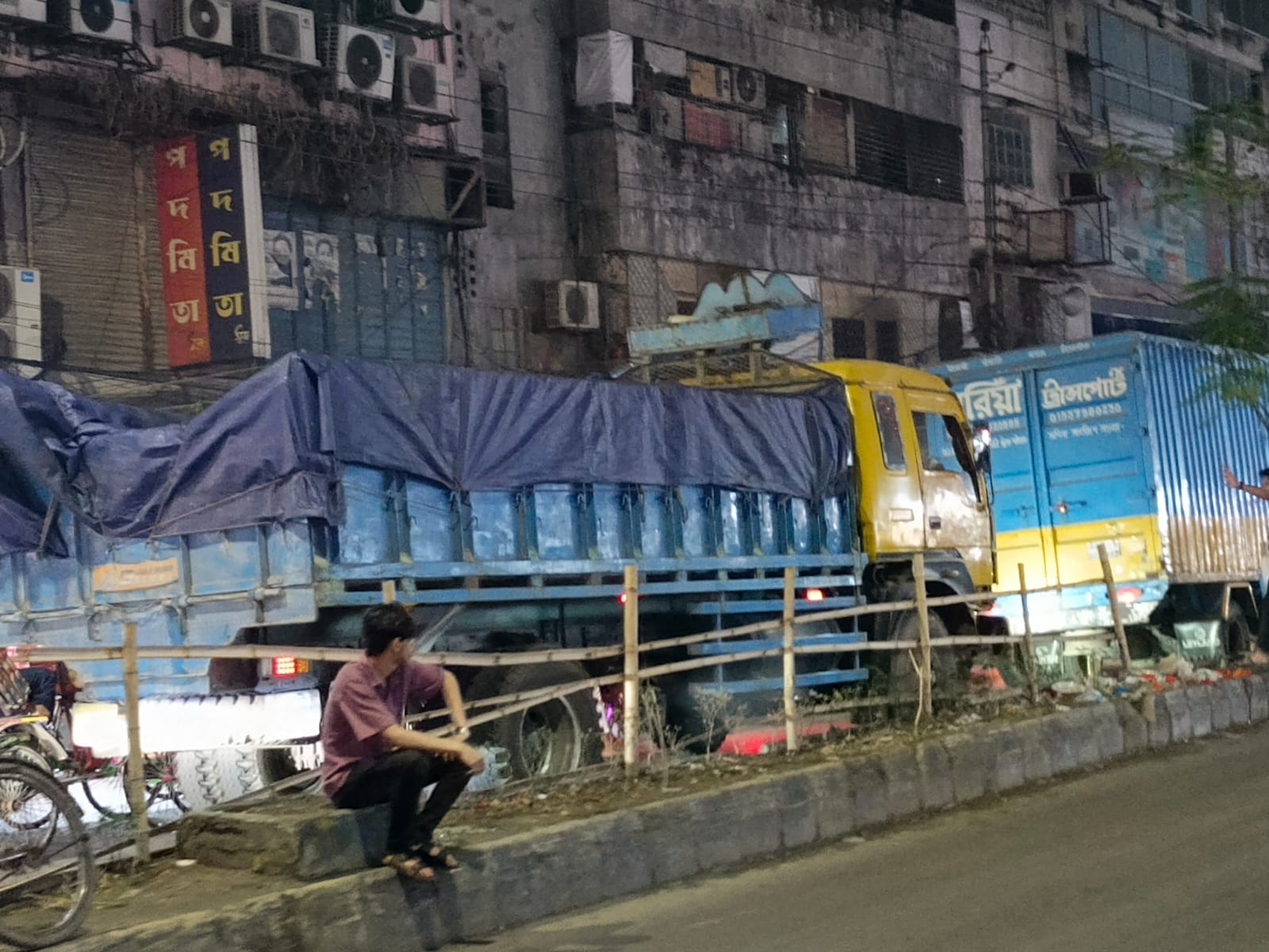Truck: (0, 273, 1008, 761), (943, 324, 1269, 683)
